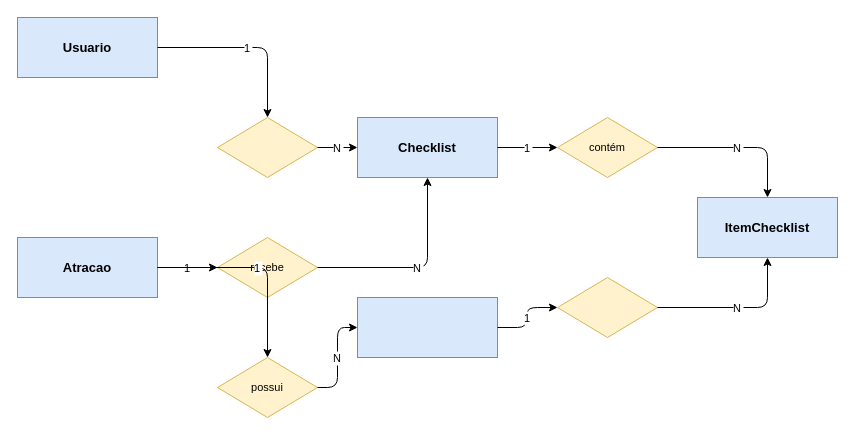
Some shapes in this 855 by 435 pixel diagram are drawn without their labels. Each missing label, with the centre of its shape:
Pergunta: [427,327]
realiza: [267,147]
responde: [607,307]
